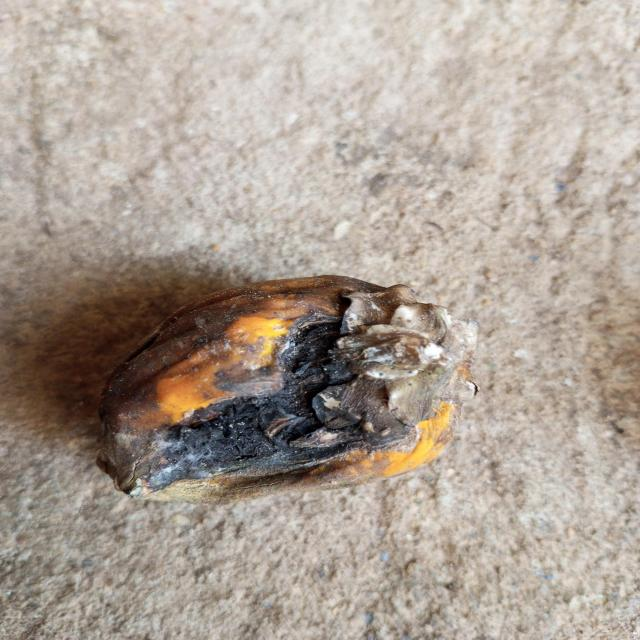damaged: (95, 276, 472, 503)
